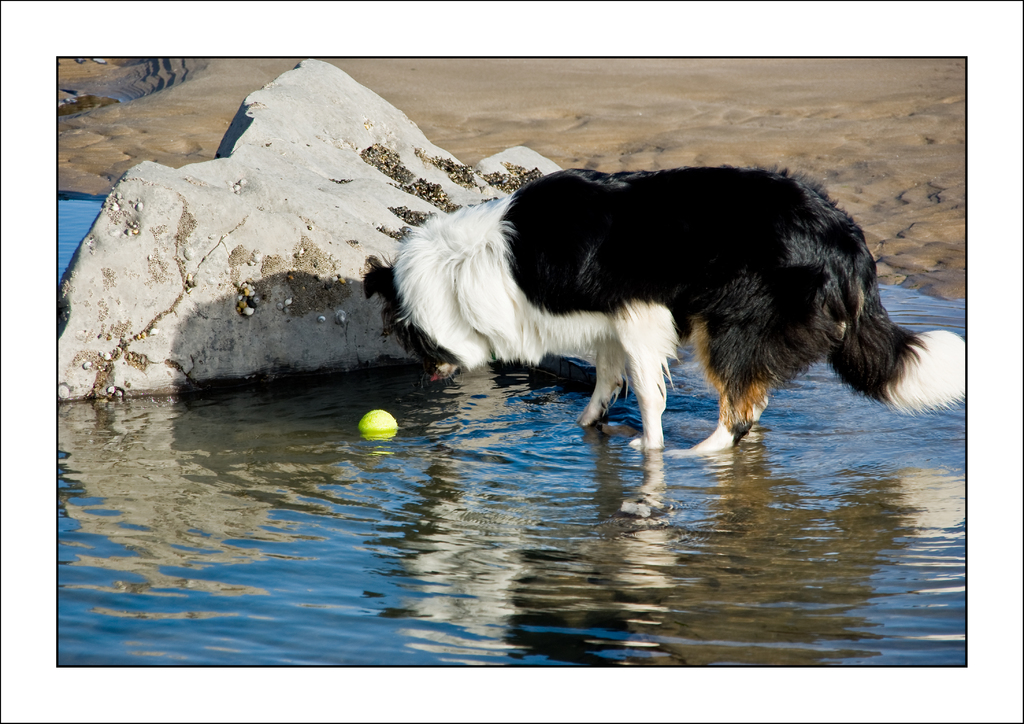Ball: (360, 408, 397, 444)
